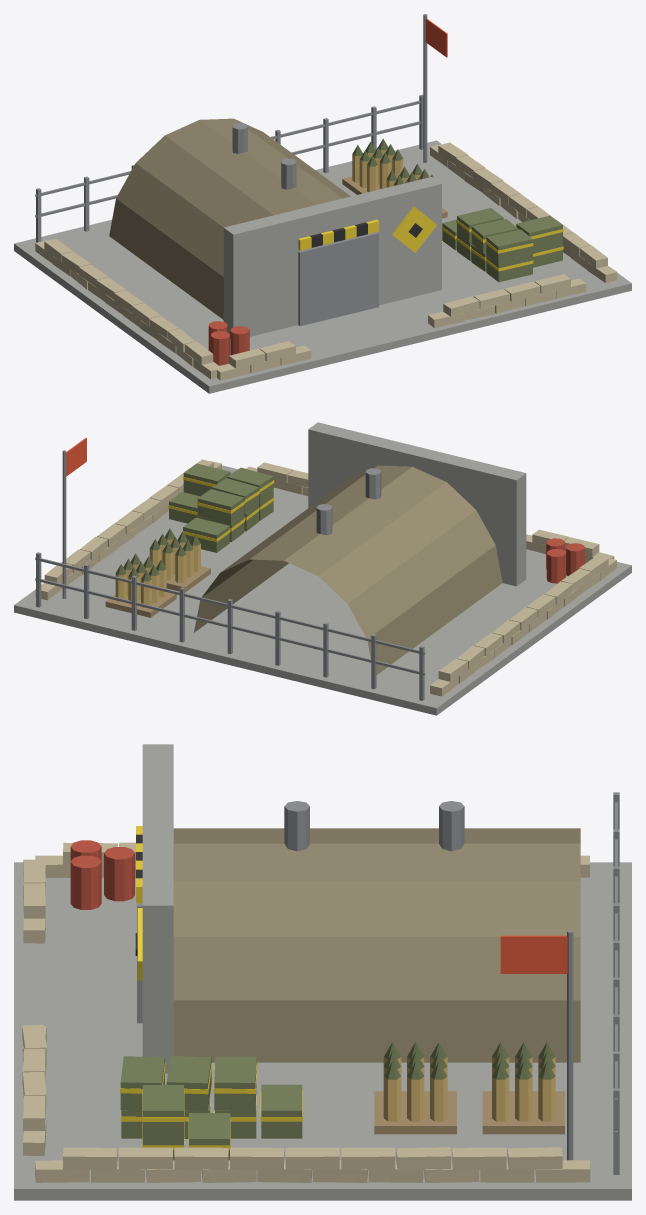
File: ammodepot.glb
The picture shows the model from 3 angles, top to bottom: view 1: azimuth 30°, elevation 25°; view 2: azimuth 150°, elevation 25°; view 3: azimuth 270°, elevation 25°; orthographic projection. The views are drawn at different scales.
Visible parts, largest first — view 1: SP_AmmoDepot; view 2: SP_AmmoDepot; view 3: SP_AmmoDepot.
Boxes of the visible parts, x1,y1,x2,y2 form: SP_AmmoDepot: (14, 14, 631, 393); SP_AmmoDepot: (14, 422, 631, 715); SP_AmmoDepot: (14, 744, 631, 1200).
Bounding box in the file's own units: 15 × 5.25 × 12.
